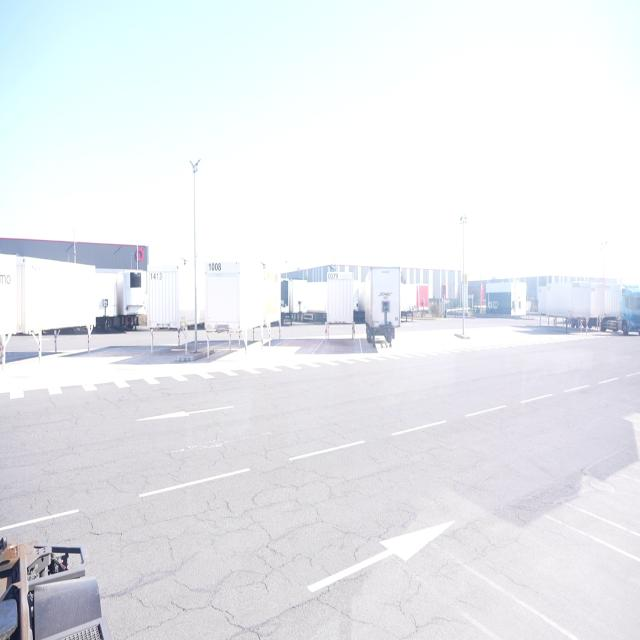Code: (146, 268, 168, 286), (326, 268, 341, 287), (205, 260, 225, 274)
